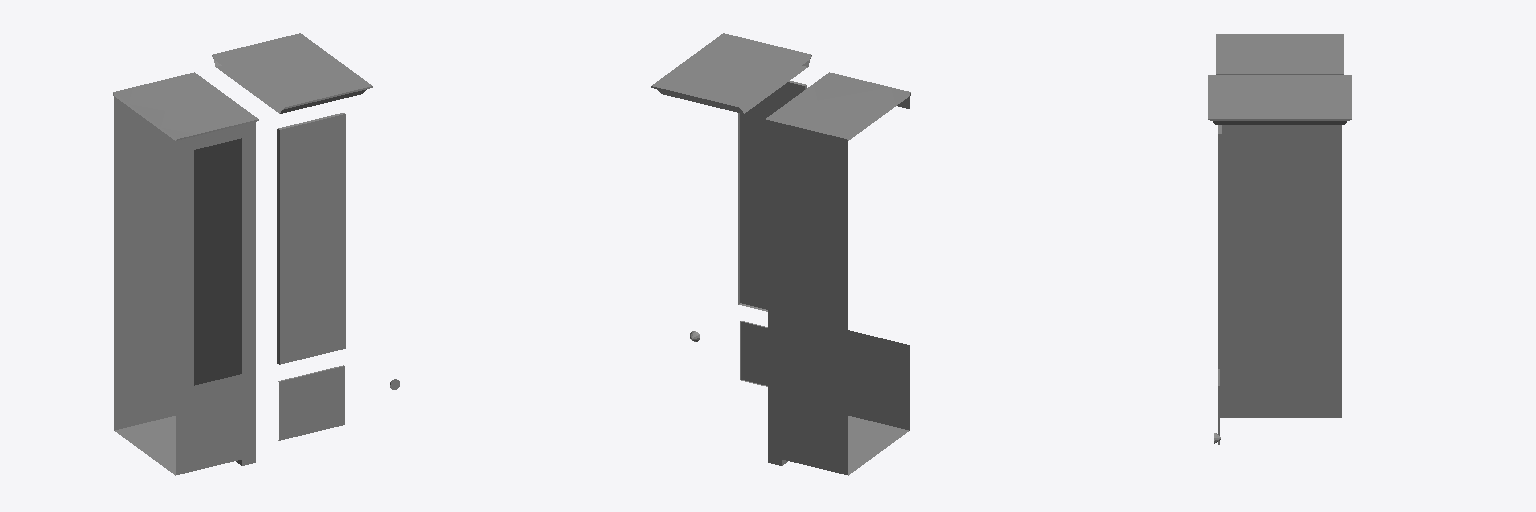
File: closet_low.obj
3 views of the same model, side by side, from view 1: azimuth 30°, elevation 25°; view 2: azimuth 150°, elevation 25°; view 3: azimuth 270°, elevation 25° (orthographic).
Visible parts, largest first — view 1: Box002, Object008, Object011, Object009; view 2: Box002, Object011, Object008, Object009; view 3: Box002, Object011, Object008.
Boxes of the visible parts, box(x1,y1,x2,y2) form: Box002: box(113, 72, 258, 475); Object008: box(277, 113, 345, 364); Object011: box(212, 33, 372, 113); Object009: box(278, 365, 344, 440); Box002: box(765, 72, 910, 475); Object011: box(651, 33, 811, 113); Object008: box(738, 81, 806, 311); Object009: box(740, 321, 767, 386); Box002: box(1216, 34, 1343, 417); Object011: box(1208, 75, 1351, 124); Object008: box(1218, 125, 1221, 368).
Bounding box in the file's own units: 20.86 × 31.69 × 11.75.